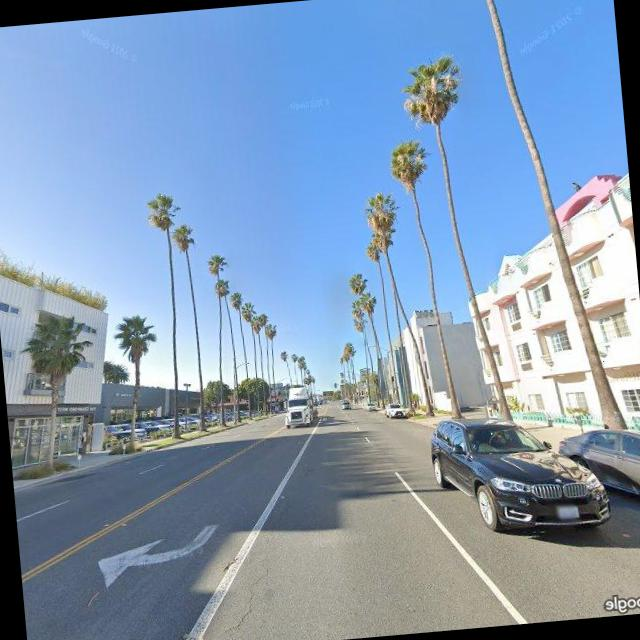pothole: (196, 560, 281, 640)
